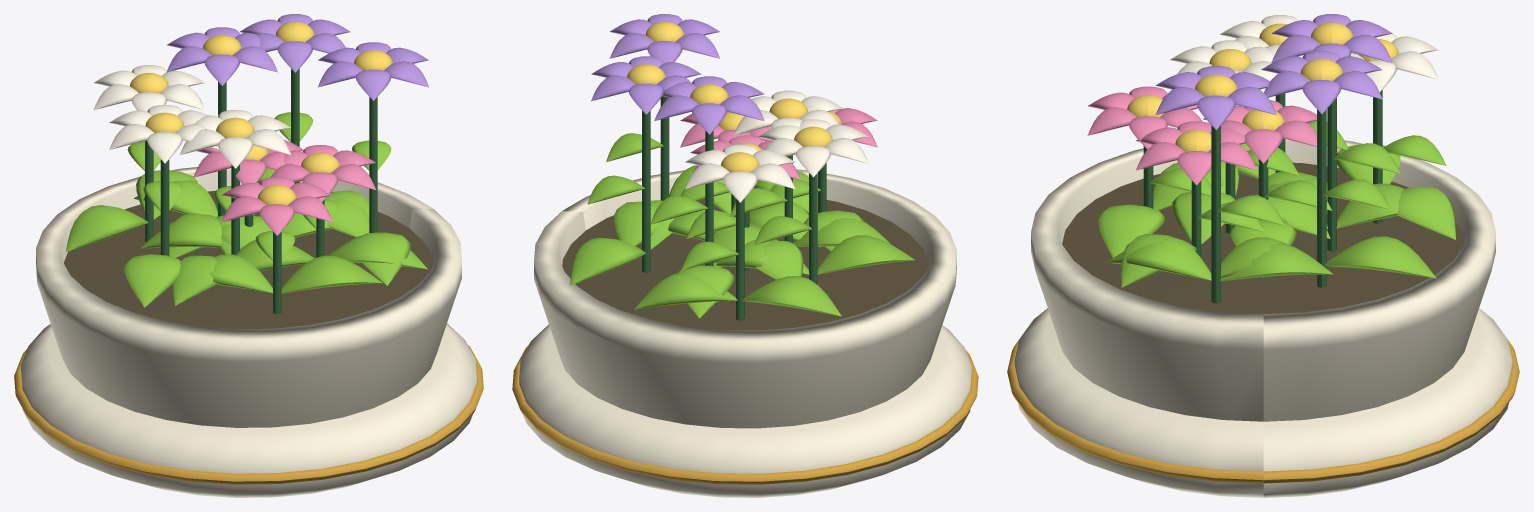
File: pollinator.glb
3 views of the same model, side by side, from view 1: azimuth 30°, elevation 25°; view 2: azimuth 150°, elevation 25°; view 3: azimuth 270°, elevation 25° (orthographic). The views are drawn at different scales.
Visible parts, largest first — view 1: pollinator, flower-6, flower-4, flower-7, flower-8, flower-3, flower-1, flower-2, flower-5, flower-0; view 2: pollinator, flower-7, flower-4, flower-5, flower-8, flower-2, flower-1, flower-0, flower-3, flower-6; view 3: pollinator, flower-8, flower-5, flower-2, flower-3, flower-6, flower-7, flower-0, flower-1, flower-4.
Part boxes in pixels (x1,y1,x2,y2): pollinator: (14,167,483,497); flower-6: (209,177,382,313); flower-4: (109,105,221,307); flower-7: (66,65,204,251); flower-8: (318,42,428,285); flower-3: (235,145,427,271); flower-1: (172,110,290,305); flower-2: (133,27,277,249); flower-5: (240,14,369,237); flower-0: (140,140,332,248); pollinator: (512,169,978,497); flower-7: (634,144,841,320); flower-4: (716,119,915,284); flower-5: (570,56,701,285); flower-8: (606,14,723,246); flower-2: (650,76,764,318); flower-1: (701,90,890,265); flower-0: (668,135,803,279); flower-3: (680,112,820,247); flower-6: (754,108,877,251); pollinator: (1007,139,1519,497); flower-8: (1107,66,1333,303); flower-5: (1220,50,1436,287); flower-2: (1224,14,1404,251); flower-3: (1121,121,1265,287); flower-6: (1087,86,1224,257); flower-7: (1337,32,1455,239); flower-0: (1203,100,1332,277); flower-1: (1170,40,1330,238); flower-4: (1220,15,1348,214).
Size of the model in its own units: 0.948 by 0.7875 by 0.948.
